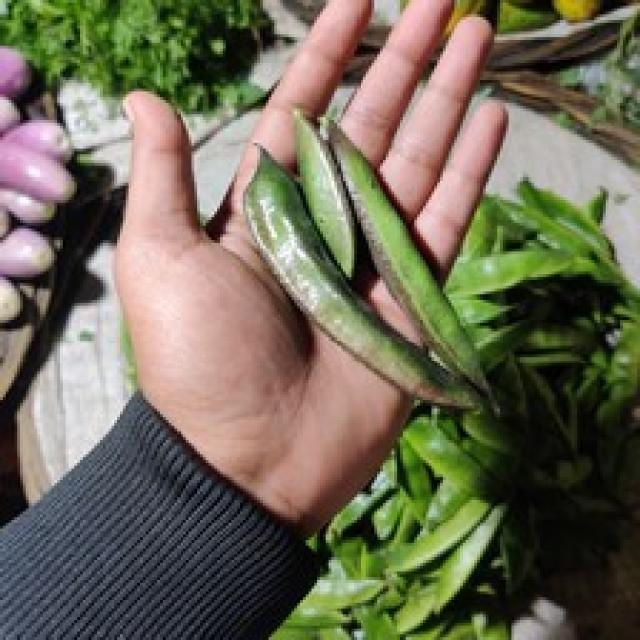Bean: (240, 111, 491, 412)
